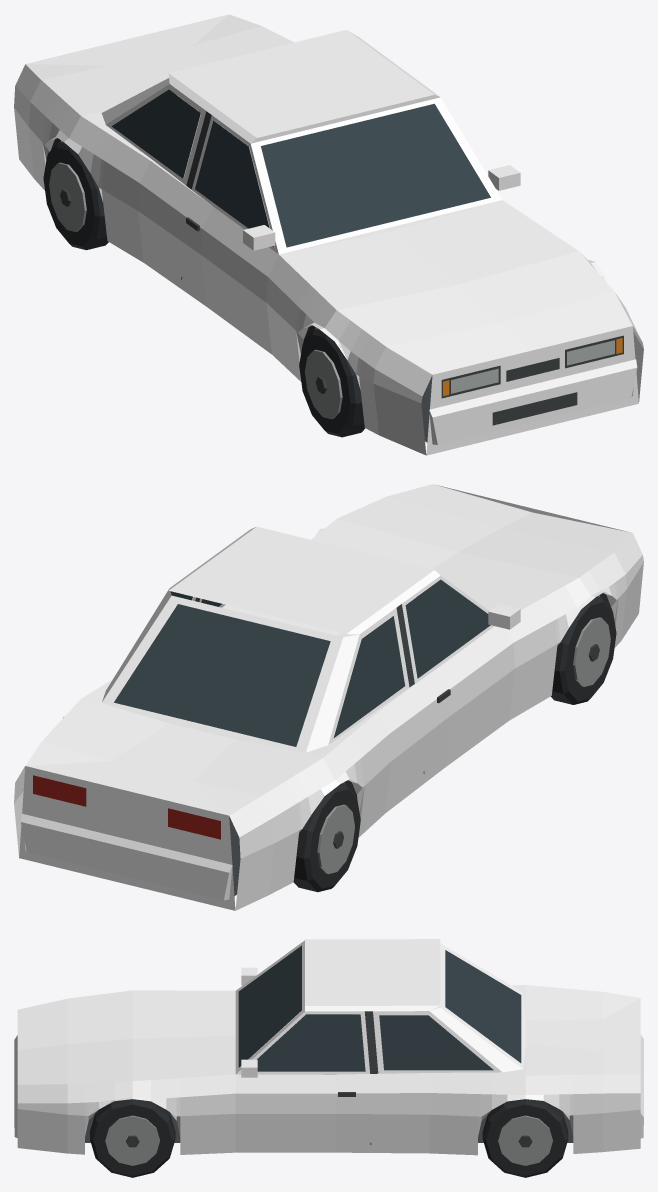
The model's file is kanaya_botan.glb.
The picture shows the model from 3 angles, top to bottom: view 1: azimuth 30°, elevation 25°; view 2: azimuth 150°, elevation 25°; view 3: azimuth 270°, elevation 25°; orthographic projection. The views are drawn at different scales.
Visible parts, largest first — view 1: kanaya_botan; view 2: kanaya_botan; view 3: kanaya_botan.
Part boxes in pixels (bbox=[...]): kanaya_botan: bbox=[14, 14, 643, 455]; kanaya_botan: bbox=[14, 484, 643, 910]; kanaya_botan: bbox=[14, 939, 643, 1177].
Size of the model in its own units: 1.79 by 1.26 by 4.6.
8 materials, 1 textured.
